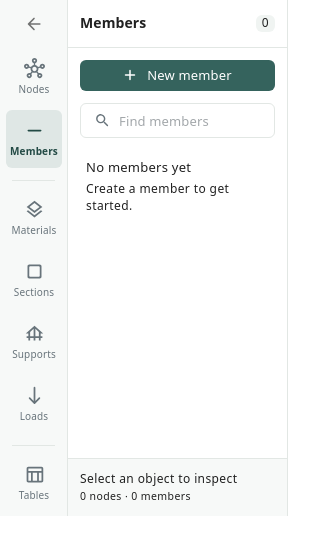
Test: gives useful empty states and table entry for an empty document
Expected: the text "No members yet" is shown, [86, 158, 191, 176]
Click the button "Supports". click: {"x": 34, "y": 342}
box: [6, 313, 62, 371]
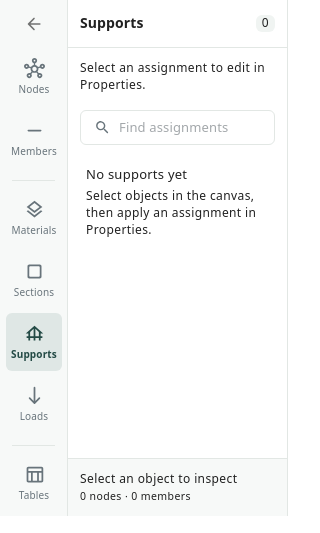
Expected: the text "No supports yet" is shown, [86, 165, 187, 183]
Click the button with aria-label "Tables & analysis". click: {"x": 34, "y": 483}
box: [6, 454, 62, 512]
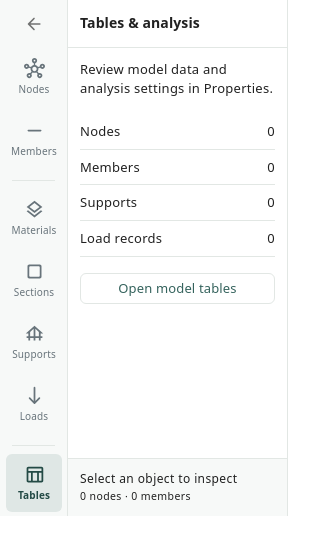
Expected: the button "Open model tables" is shown, [80, 273, 275, 304]
